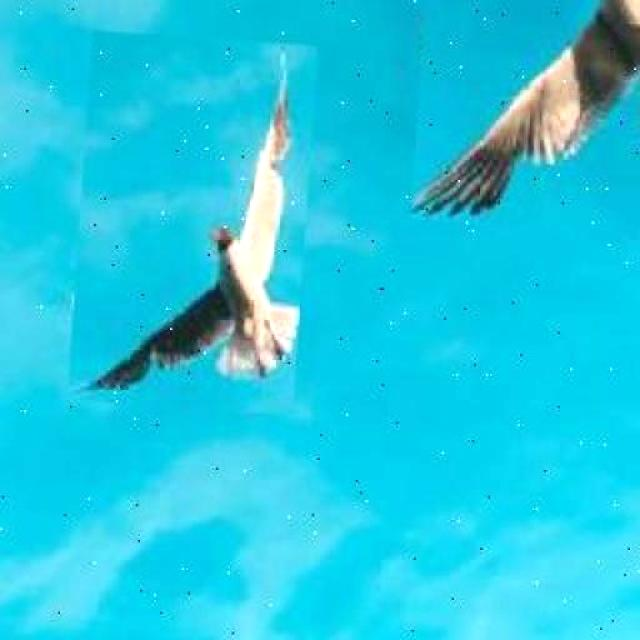airplane: (68, 30, 318, 414), (410, 0, 640, 239)
